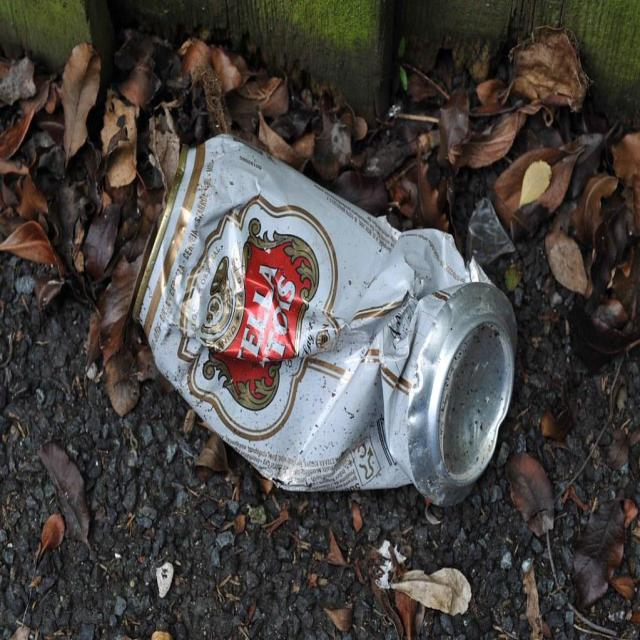can: (126, 134, 518, 506)
